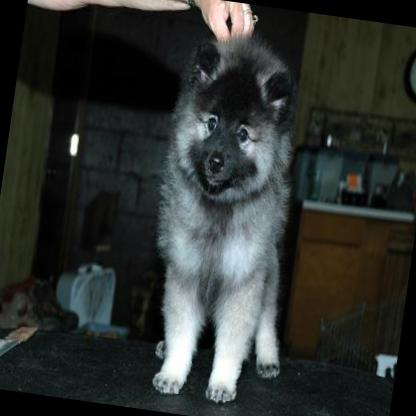keeshond: (127, 14, 328, 412)
